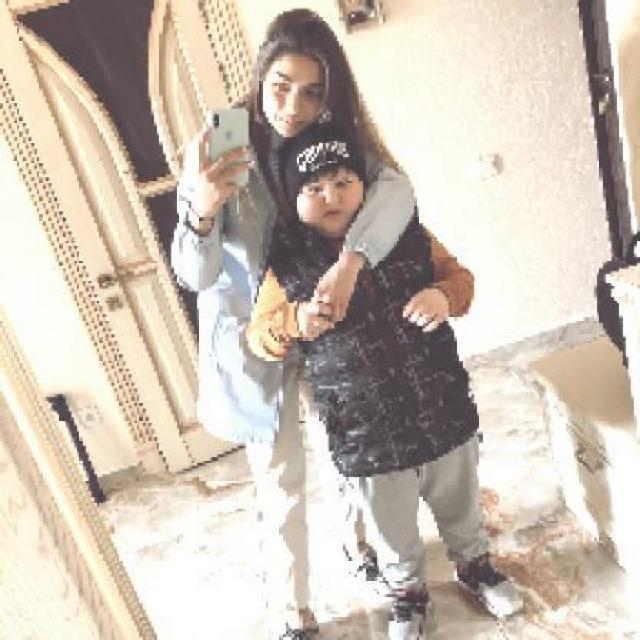child: (243, 120, 526, 637)
